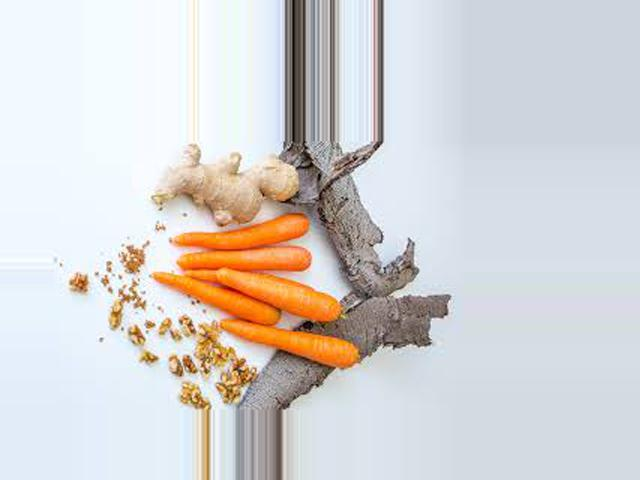carrot: (174, 195, 315, 255)
